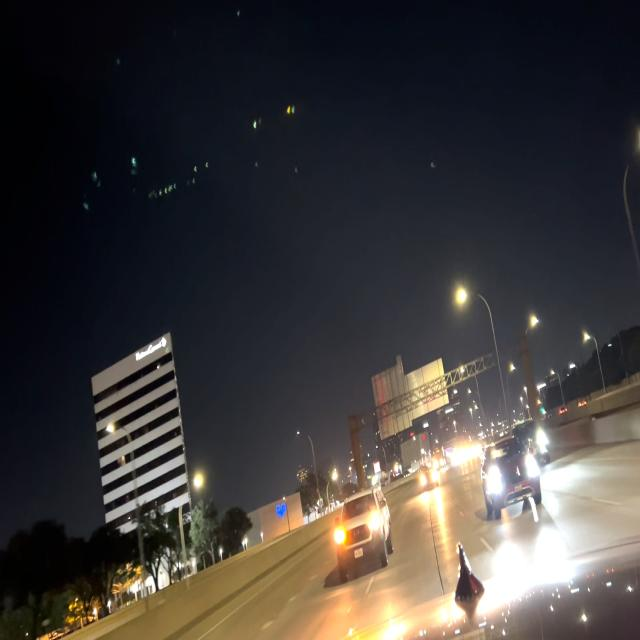back-of-sign: (372, 356, 449, 440)
